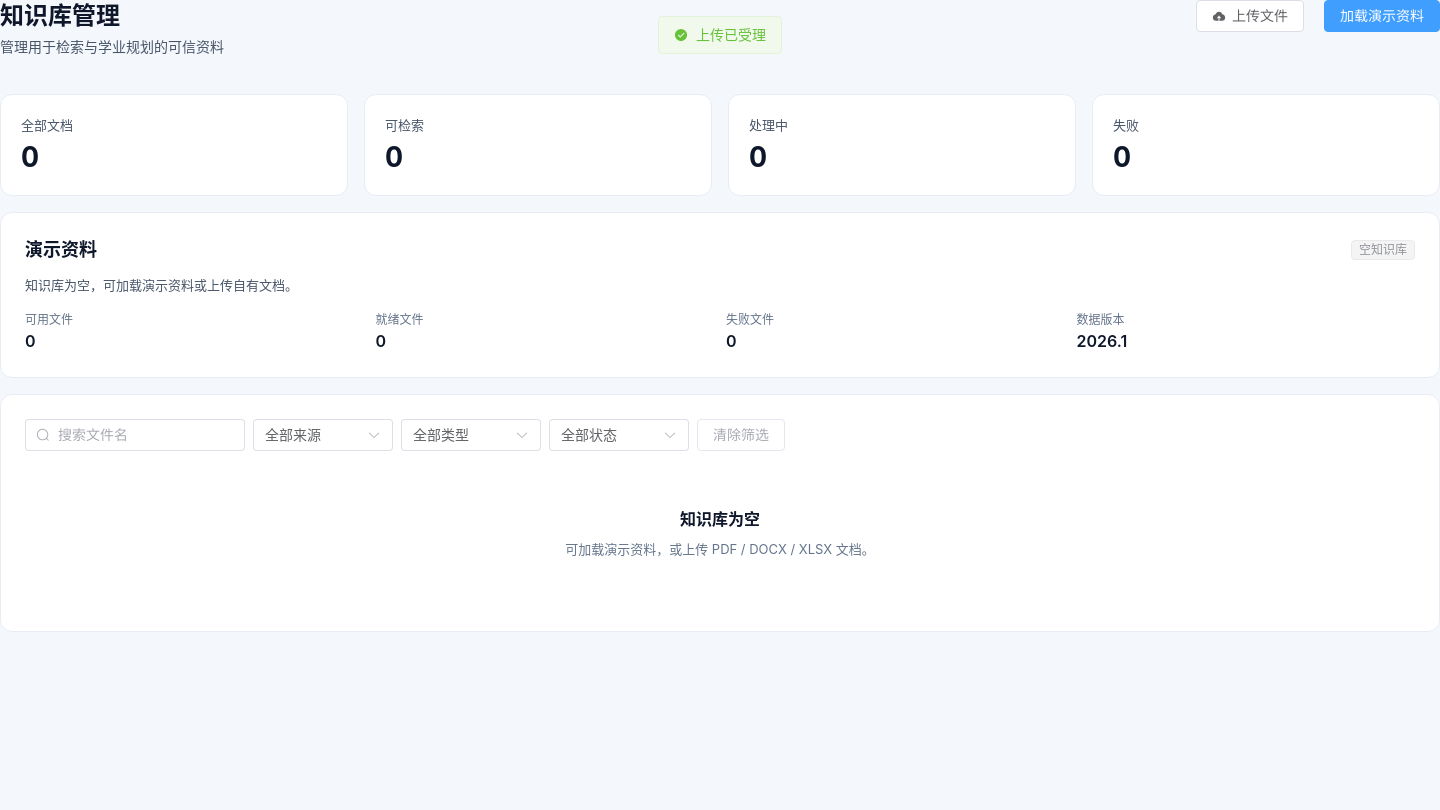
KnowledgeView › clears the previous seed error when the retry is accepted
This screenshot has width=1440, height=810.
Click the button "加载演示资料": (1382, 16) left=1324, top=0, right=1439, bottom=32
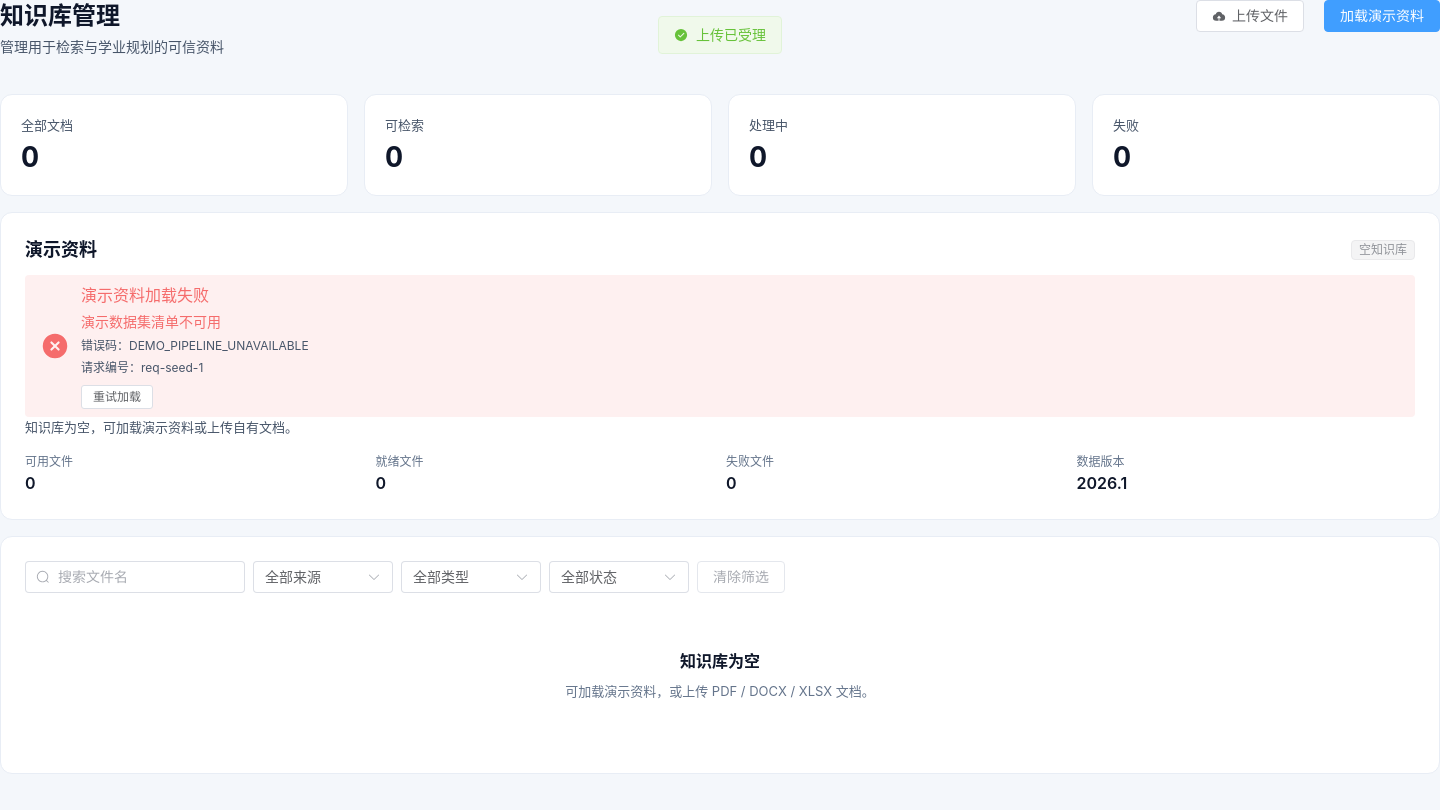
Result: the element with class "ep-demo" shows "DEMO_PIPELINE_UNAVAILABLE" at left=81, top=338, right=309, bottom=353
Click the button "重试加载": (117, 397) left=81, top=385, right=153, bottom=409
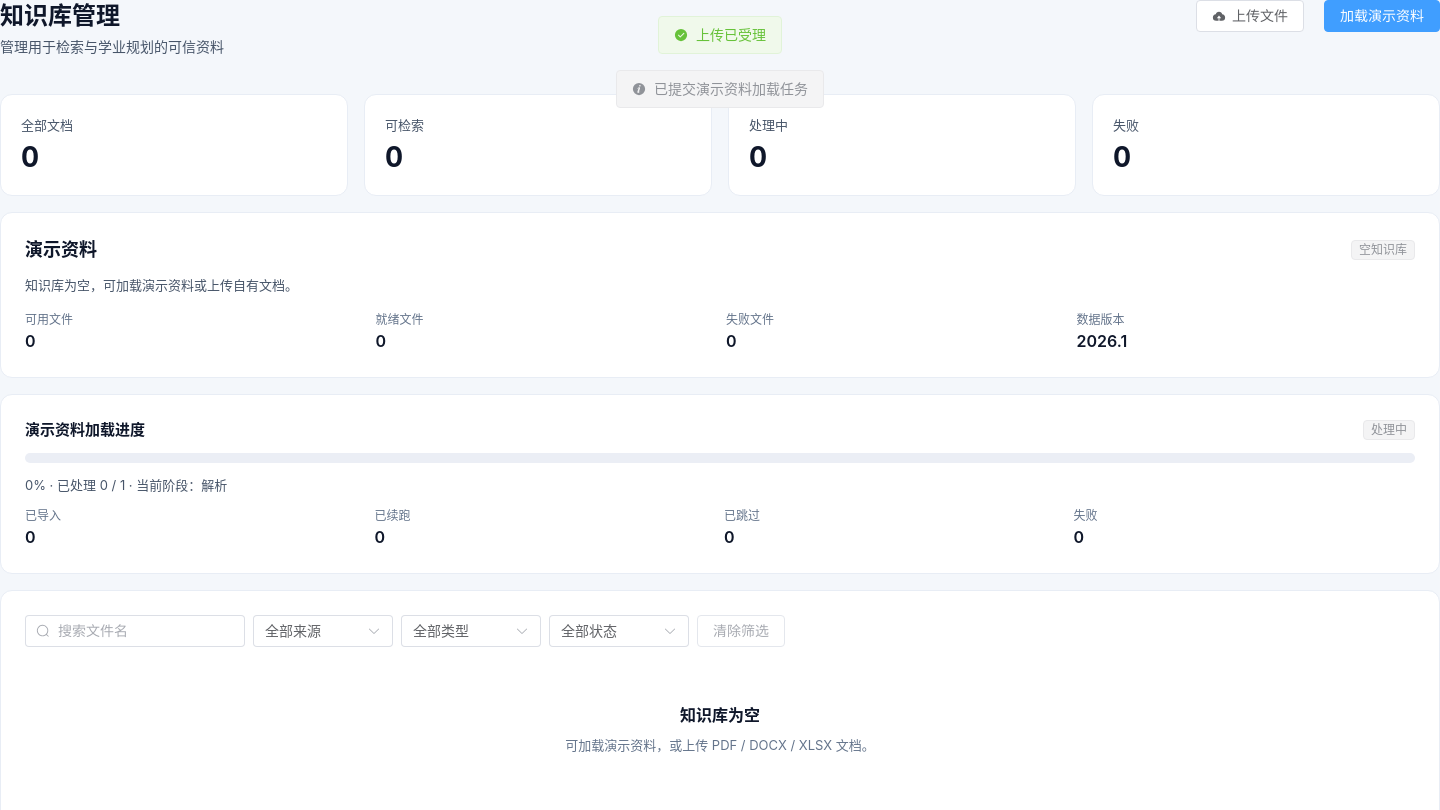
Result: the text with class "ep-demo" no longer shows "DEMO_PIPELINE_UNAVAILABLE"
